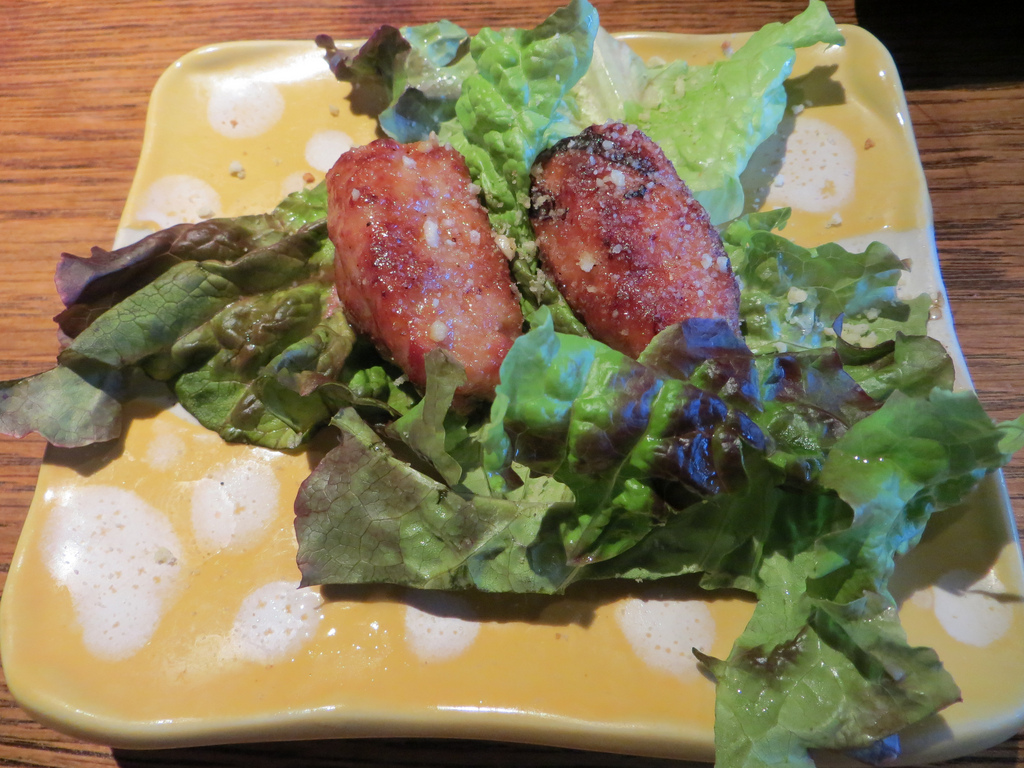chopped lettuce: (310, 334, 1014, 765), (357, 26, 828, 182), (57, 227, 344, 476), (712, 122, 930, 399)
